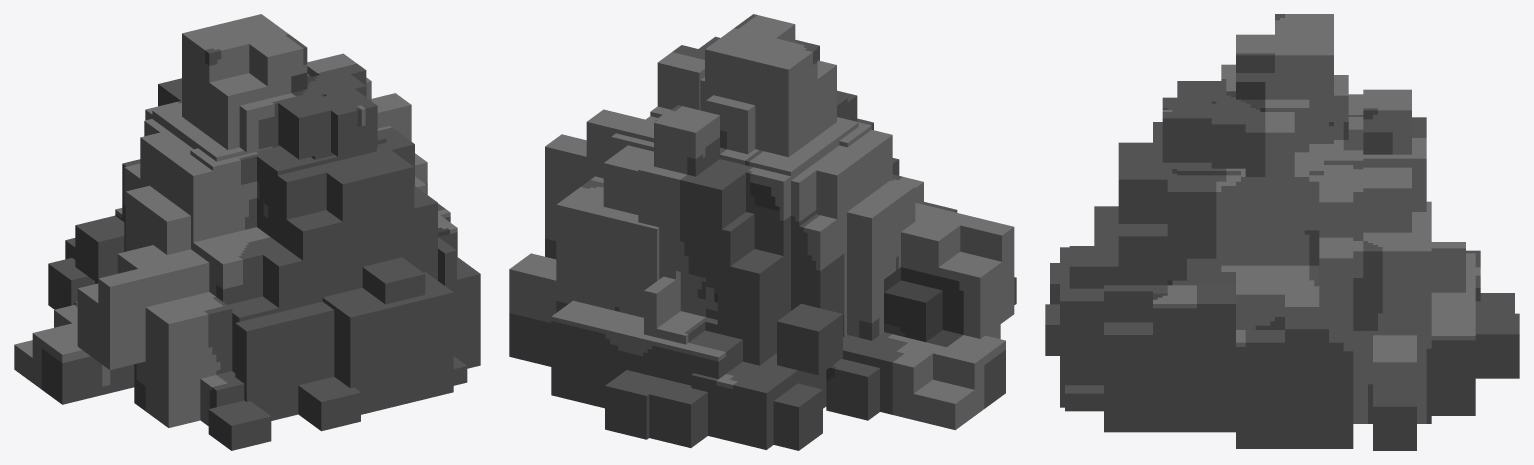
File: Rock.fbx
The picture shows the model from 3 angles, left to right: view 1: azimuth 30°, elevation 25°; view 2: azimuth 150°, elevation 25°; view 3: azimuth 270°, elevation 25°; orthographic projection. The views are drawn at different scales.
Visible parts, largest first — view 1: root; view 2: root; view 3: root.
Boxes of the visible parts, x1,y1,x2,y2 form: root: [14, 14, 480, 450]; root: [509, 14, 1016, 450]; root: [1045, 14, 1519, 450].
Size of the model in its own units: 0.512 by 0.3762 by 0.5068.
Materials: 1 (1 with a texture image).
